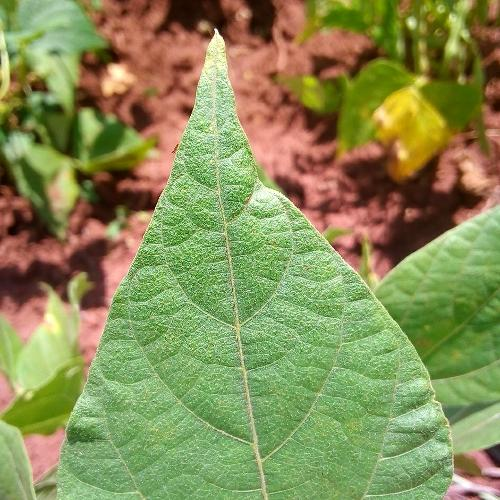sehat: (119, 318, 363, 485)
